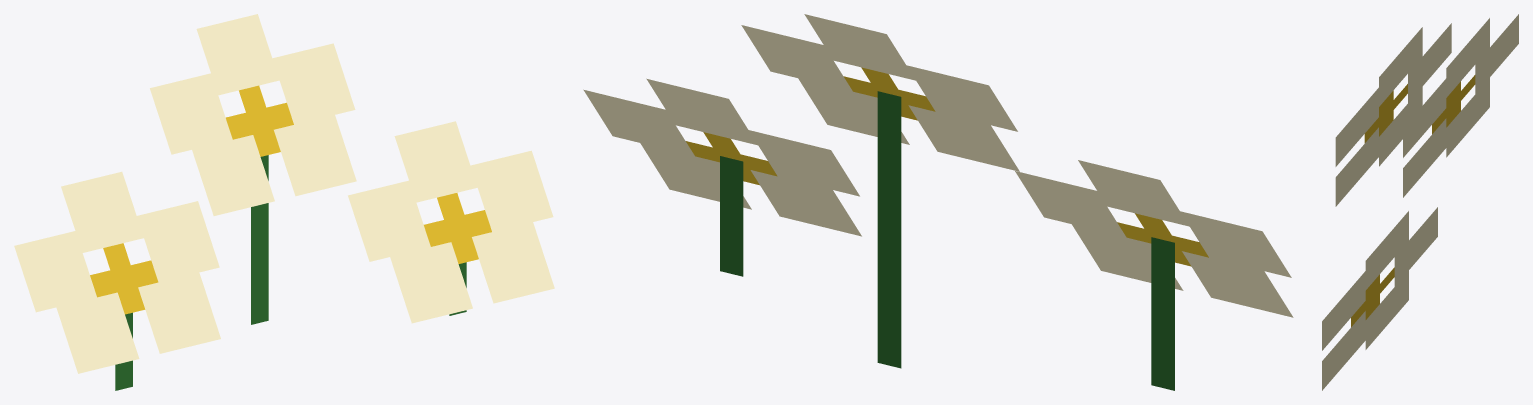
File: SM_BreezeFlowers_White.fbx
3 renders of one model, left to right at view 1: azimuth 30°, elevation 25°; view 2: azimuth 150°, elevation 25°; view 3: azimuth 270°, elevation 25°, orthographic. The views are drawn at different scales.
Parts seen in each view (by area): view 1: Stem.001, Stem, DaisyPixel.002, DaisyPixel.145, DaisyPixel.032, DaisyPixel.042, DaisyPixel.070, DaisyPixel.072, DaisyPixel.095, DaisyPixel.141, DaisyPixel.006, DaisyPixel.012 (+140 smaller); view 2: Stem.001, Stem, Stem.002; view 3: no part large enough to name.
Boxes of the visible parts, x1,y1,x2,y2 form: Stem.001: (251,155,268,324); Stem: (115,312,132,390); DaisyPixel.002: (61,181,88,208); DaisyPixel.145: (424,220,451,246); DaisyPixel.032: (158,277,185,304); DaisyPixel.042: (192,245,219,272); DaisyPixel.070: (192,145,219,171); DaisyPixel.072: (219,162,246,188); DaisyPixel.095: (226,112,252,139); DaisyPixel.141: (491,155,518,182); DaisyPixel.006: (116,216,143,242); DaisyPixel.012: (49,280,76,307); Stem.001: (877,91,901,368); Stem: (1151,237,1174,390); Stem.002: (720,156,743,276).
Bounding box in the file's own units: 87.5 × 29.24 × 45.41.
1 material, 1 textured.
